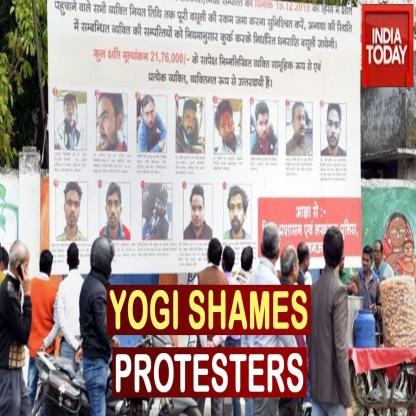BANNER: (107, 285, 312, 398)
